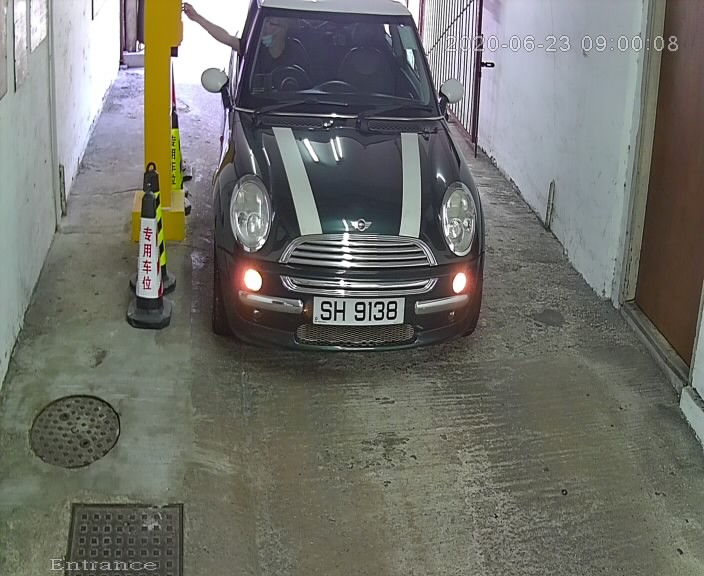privatecar: (184, 2, 521, 391)
